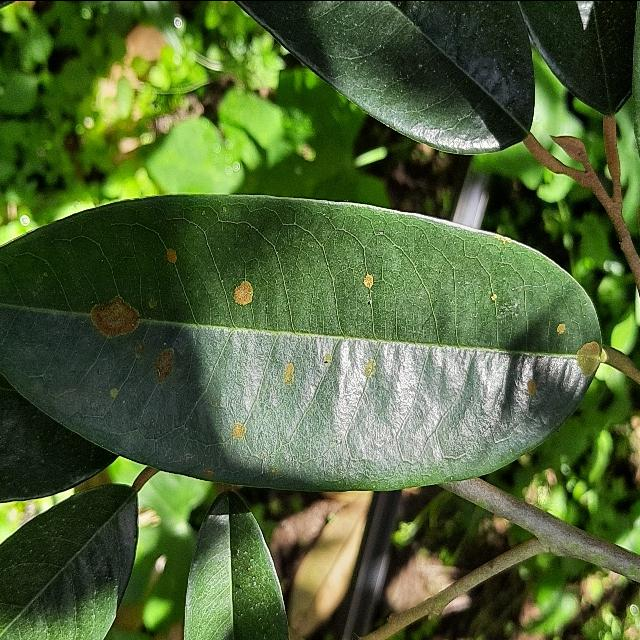Algal Leaf Spot: (0, 187, 607, 498)
